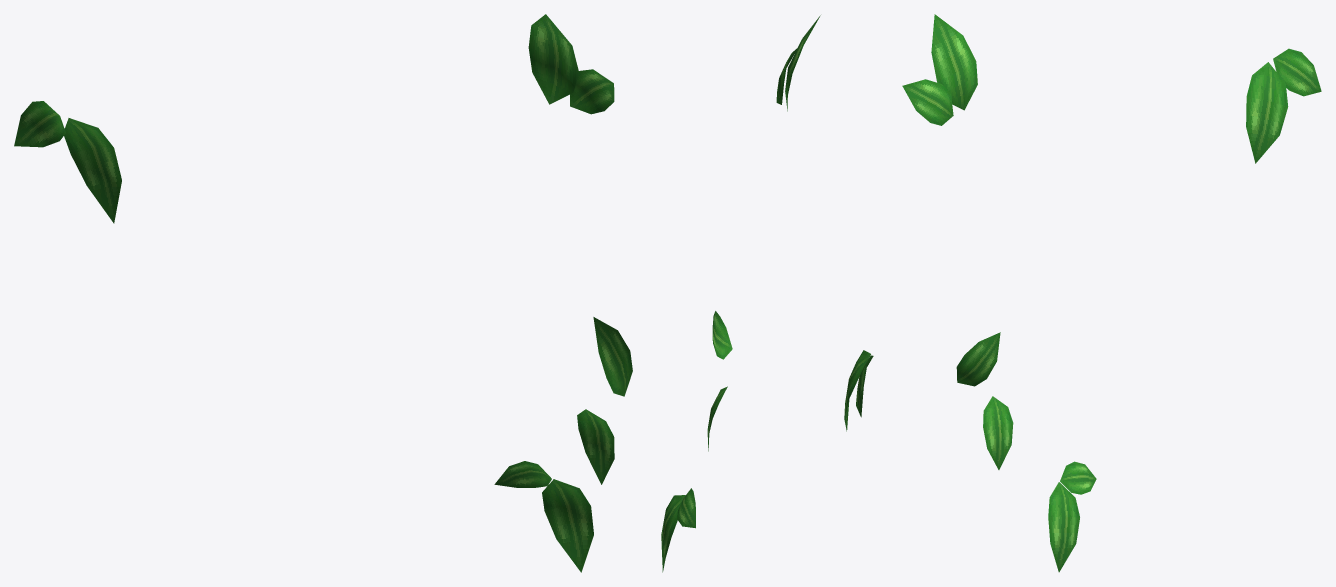
File: EKH_BARRELROOM_PS_JA1_LEAVES63534.fbx
The picture shows the model from 3 angles, left to right: view 1: azimuth 30°, elevation 25°; view 2: azimuth 150°, elevation 25°; view 3: azimuth 270°, elevation 25°; orthographic projection. The views are drawn at different scales.
Parts seen in each view (by area): view 1: EKH_BARRELROOM_PS_JA1_LEAVES63534; view 2: EKH_BARRELROOM_PS_JA1_LEAVES63534; view 3: EKH_BARRELROOM_PS_JA1_LEAVES63534.
Boxes of the visible parts, left/top/right/bottom form: EKH_BARRELROOM_PS_JA1_LEAVES63534: left=14, top=14, right=632, bottom=572; EKH_BARRELROOM_PS_JA1_LEAVES63534: left=661, top=15, right=873, bottom=572; EKH_BARRELROOM_PS_JA1_LEAVES63534: left=902, top=14, right=1321, bottom=572.
Bounding box in the file's own units: 12453 × 18656 × 13776.
Materials: 1 (1 with a texture image).
